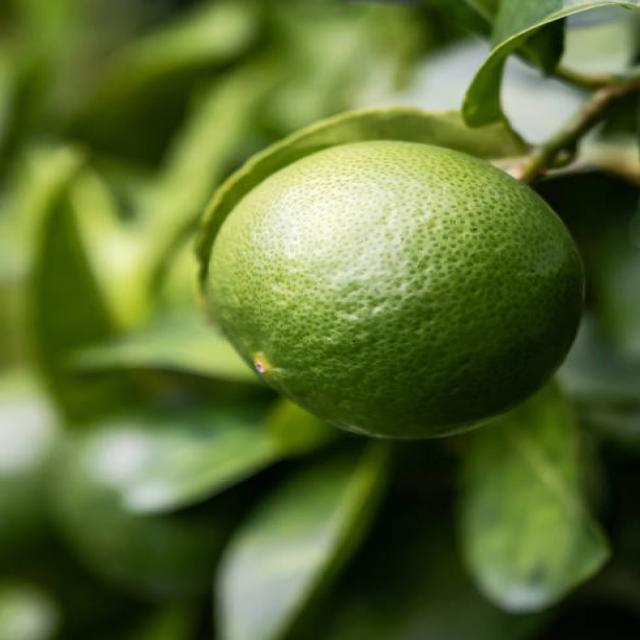Unripe: (208, 138, 583, 440)
